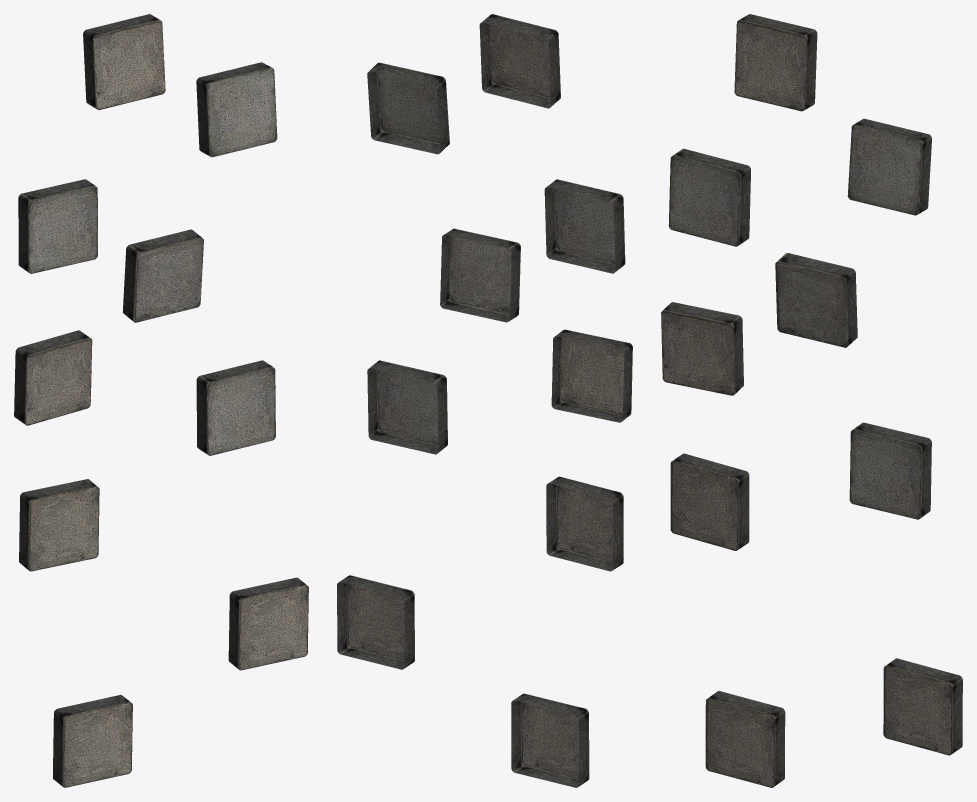
Rendered from hd_dec_UNI_003_PavingDirected_vertical_02.glb.
3 views of the same model, side by side, from view 1: azimuth 30°, elevation 25°; view 2: azimuth 150°, elevation 25°; view 3: azimuth 330°, elevation 25° (orthographic).
Visible parts, largest first — view 1: set_0_group_0; view 2: set_0_group_0; view 3: set_0_group_0.
Part boxes in pixels (x1,y1,x2,y2): set_0_group_0: (14,14,308,787); set_0_group_0: (337,14,632,787); set_0_group_0: (661,14,962,787).
Size of the model in its own units: 2 by 4.98 by 0.1787.
Materials: 1 (1 with a texture image).
